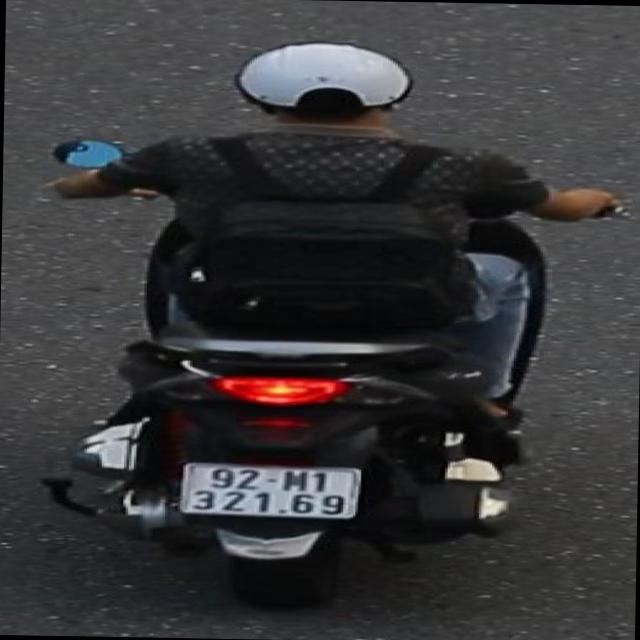LP: (170, 456, 362, 524)
helmet: (230, 38, 418, 140)
